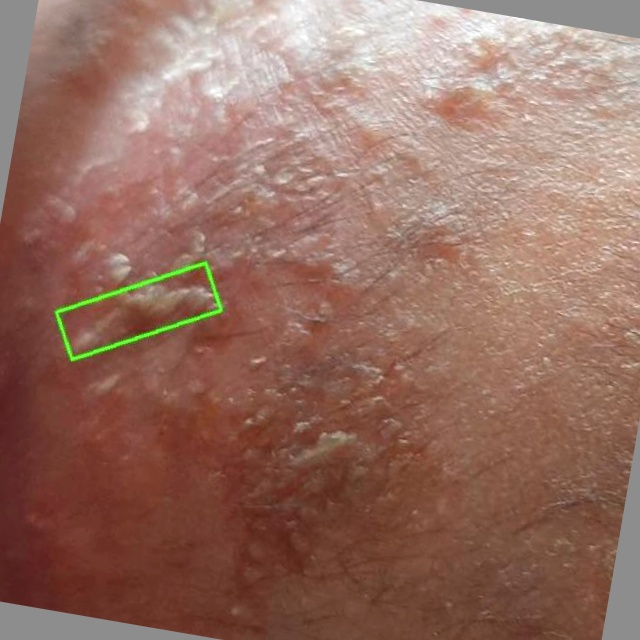Seborrheic Dermatitis: (56, 263, 220, 360)
